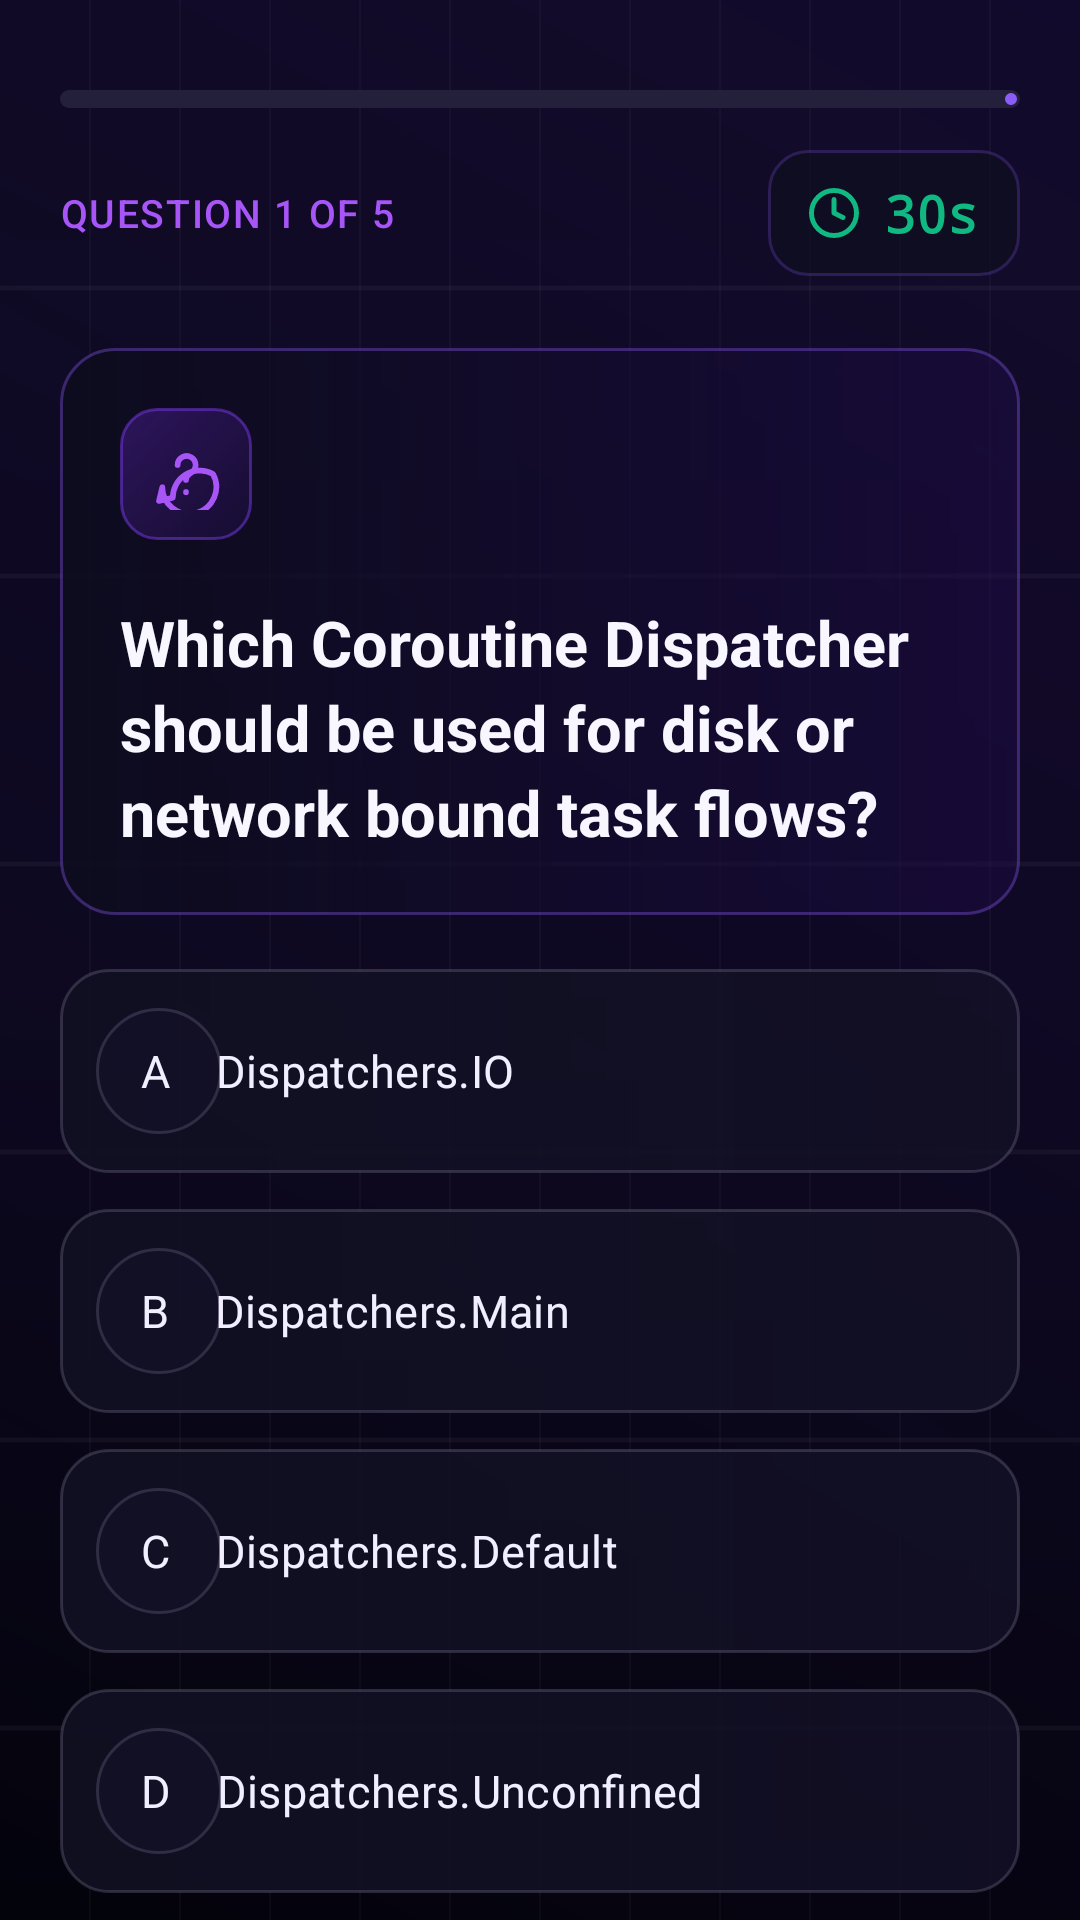

Icons on this 1080×1920 Android screen, each with its box as (x1, y1, x2, y2):
quiz timer: (809, 188, 859, 238)
